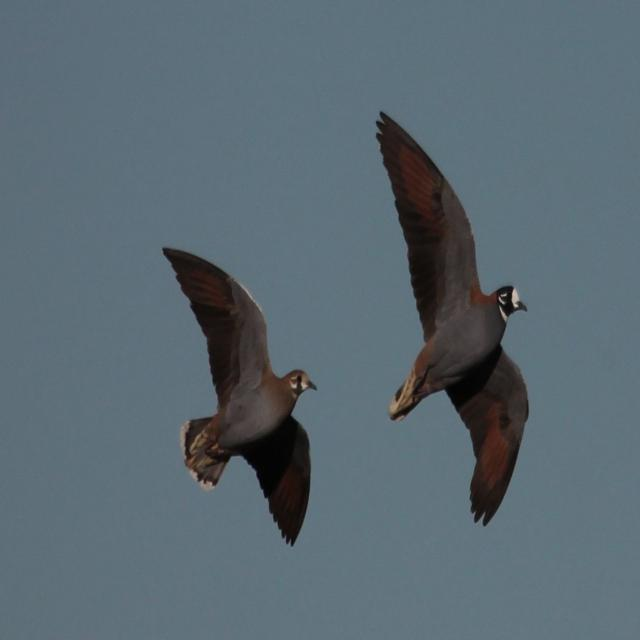bird: (368, 90, 539, 540), (163, 238, 324, 550)
